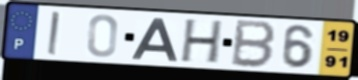0: (86, 13, 120, 59)
6: (281, 24, 318, 70)
A: (129, 16, 180, 63)
B: (229, 18, 279, 70)
H: (178, 18, 226, 66)
I: (45, 10, 61, 57)
